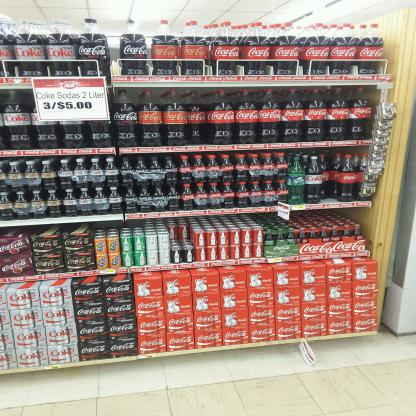Void: (96, 222, 146, 229), (324, 198, 333, 204)
